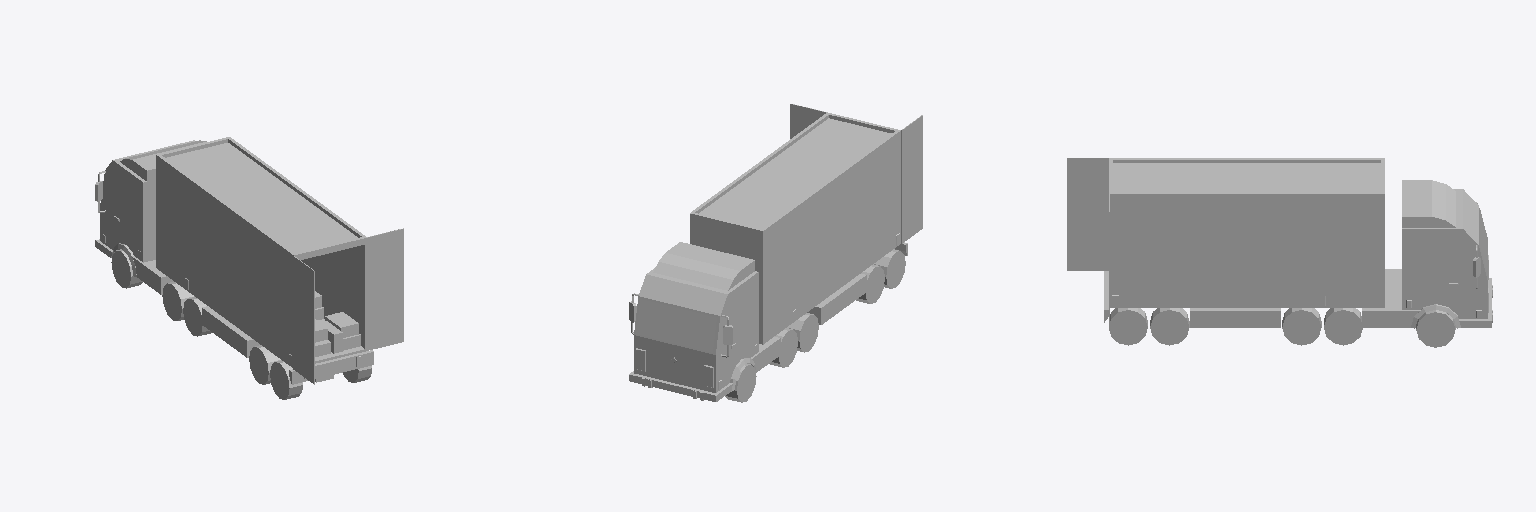
File: Truck_open.obj
3 views of the same model, side by side, from view 1: azimuth 30°, elevation 25°; view 2: azimuth 150°, elevation 25°; view 3: azimuth 270°, elevation 25° (orthographic).
Visible parts, largest first — view 1: Truck_open; view 2: Truck_open; view 3: Truck_open.
Part boxes in pixels (left/top/right/bottom): Truck_open: left=95, top=137, right=403, bottom=399; Truck_open: left=629, top=104, right=922, bottom=402; Truck_open: left=1067, top=158, right=1492, bottom=347.
Size of the model in its own units: 110 by 125 by 325.